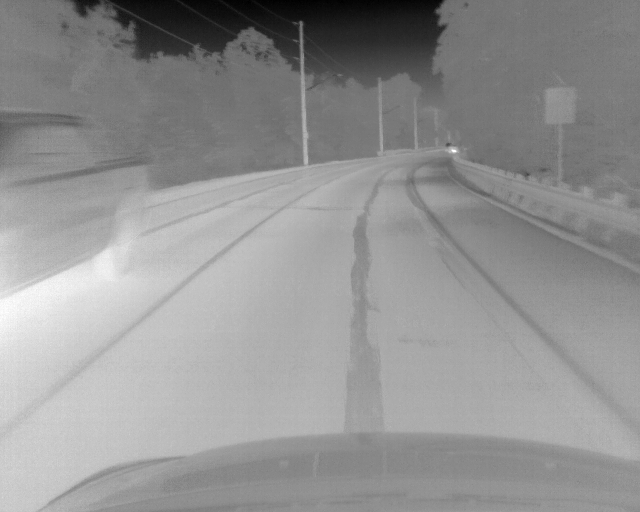car: (1, 109, 153, 303), (446, 140, 461, 158)
